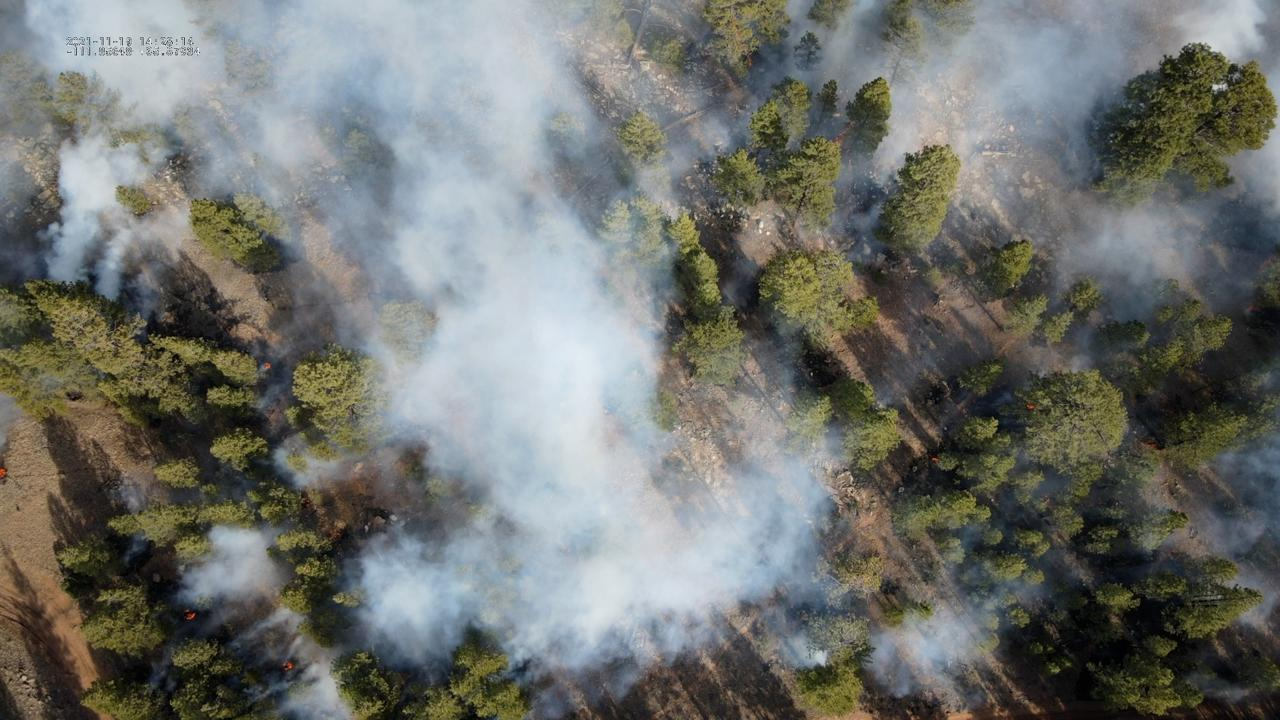fire: (831, 131, 846, 145), (182, 608, 196, 621), (283, 660, 295, 672), (0, 465, 7, 480), (263, 361, 273, 371), (1026, 402, 1036, 410), (931, 457, 939, 463)
smoke: (0, 0, 1280, 720)
